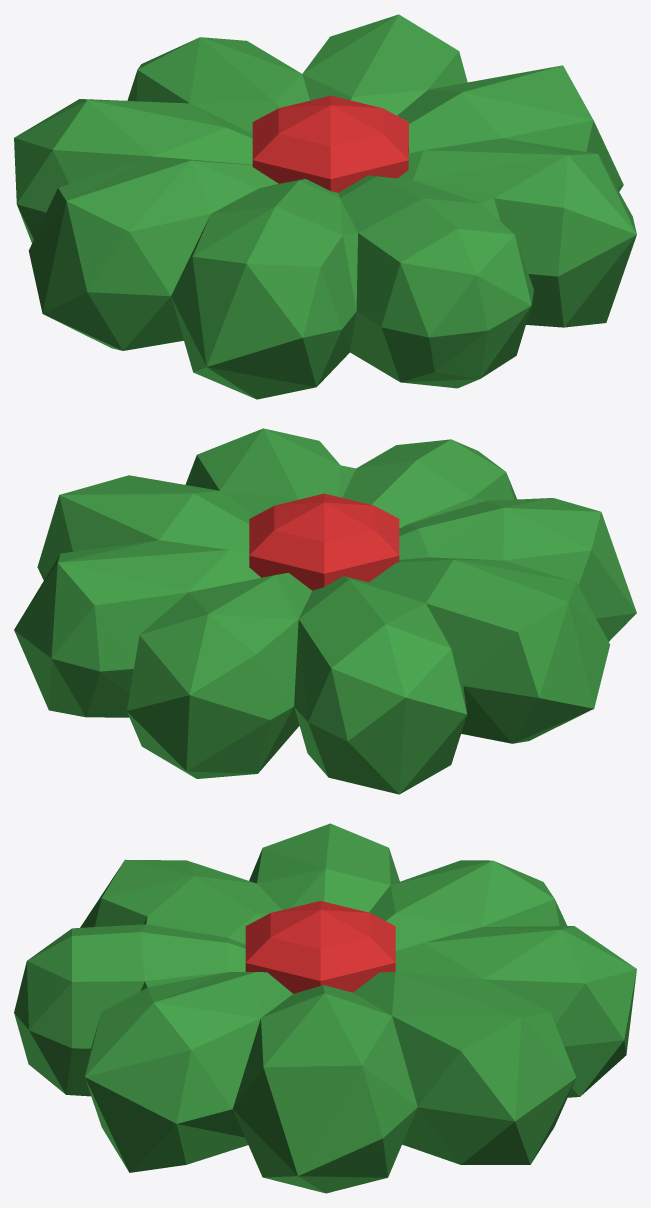
The model's file is fantasy_plant_067.fbx.
The picture shows the model from 3 angles, top to bottom: view 1: azimuth 30°, elevation 25°; view 2: azimuth 150°, elevation 25°; view 3: azimuth 270°, elevation 25°; orthographic projection. The views are drawn at different scales.
Visible parts, largest first — view 1: fantasy_plant.067; view 2: fantasy_plant.067; view 3: fantasy_plant.067.
Part boxes in pixels (box(x1,y1,x2,y2)): fantasy_plant.067: box(14, 14, 636, 399); fantasy_plant.067: box(14, 428, 636, 794); fantasy_plant.067: box(14, 823, 636, 1193).
Size of the model in its own units: 498 by 163 by 495.
1 material, 1 textured.
